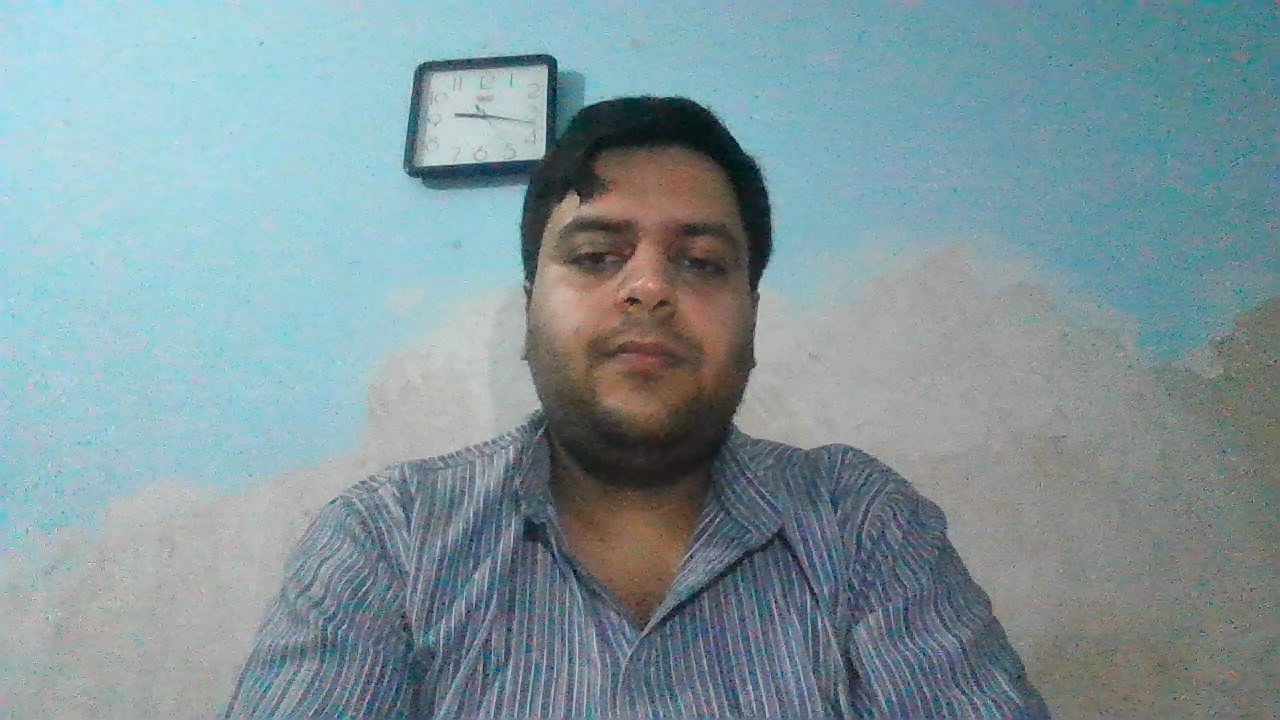No Mask: (514, 275, 769, 480)
